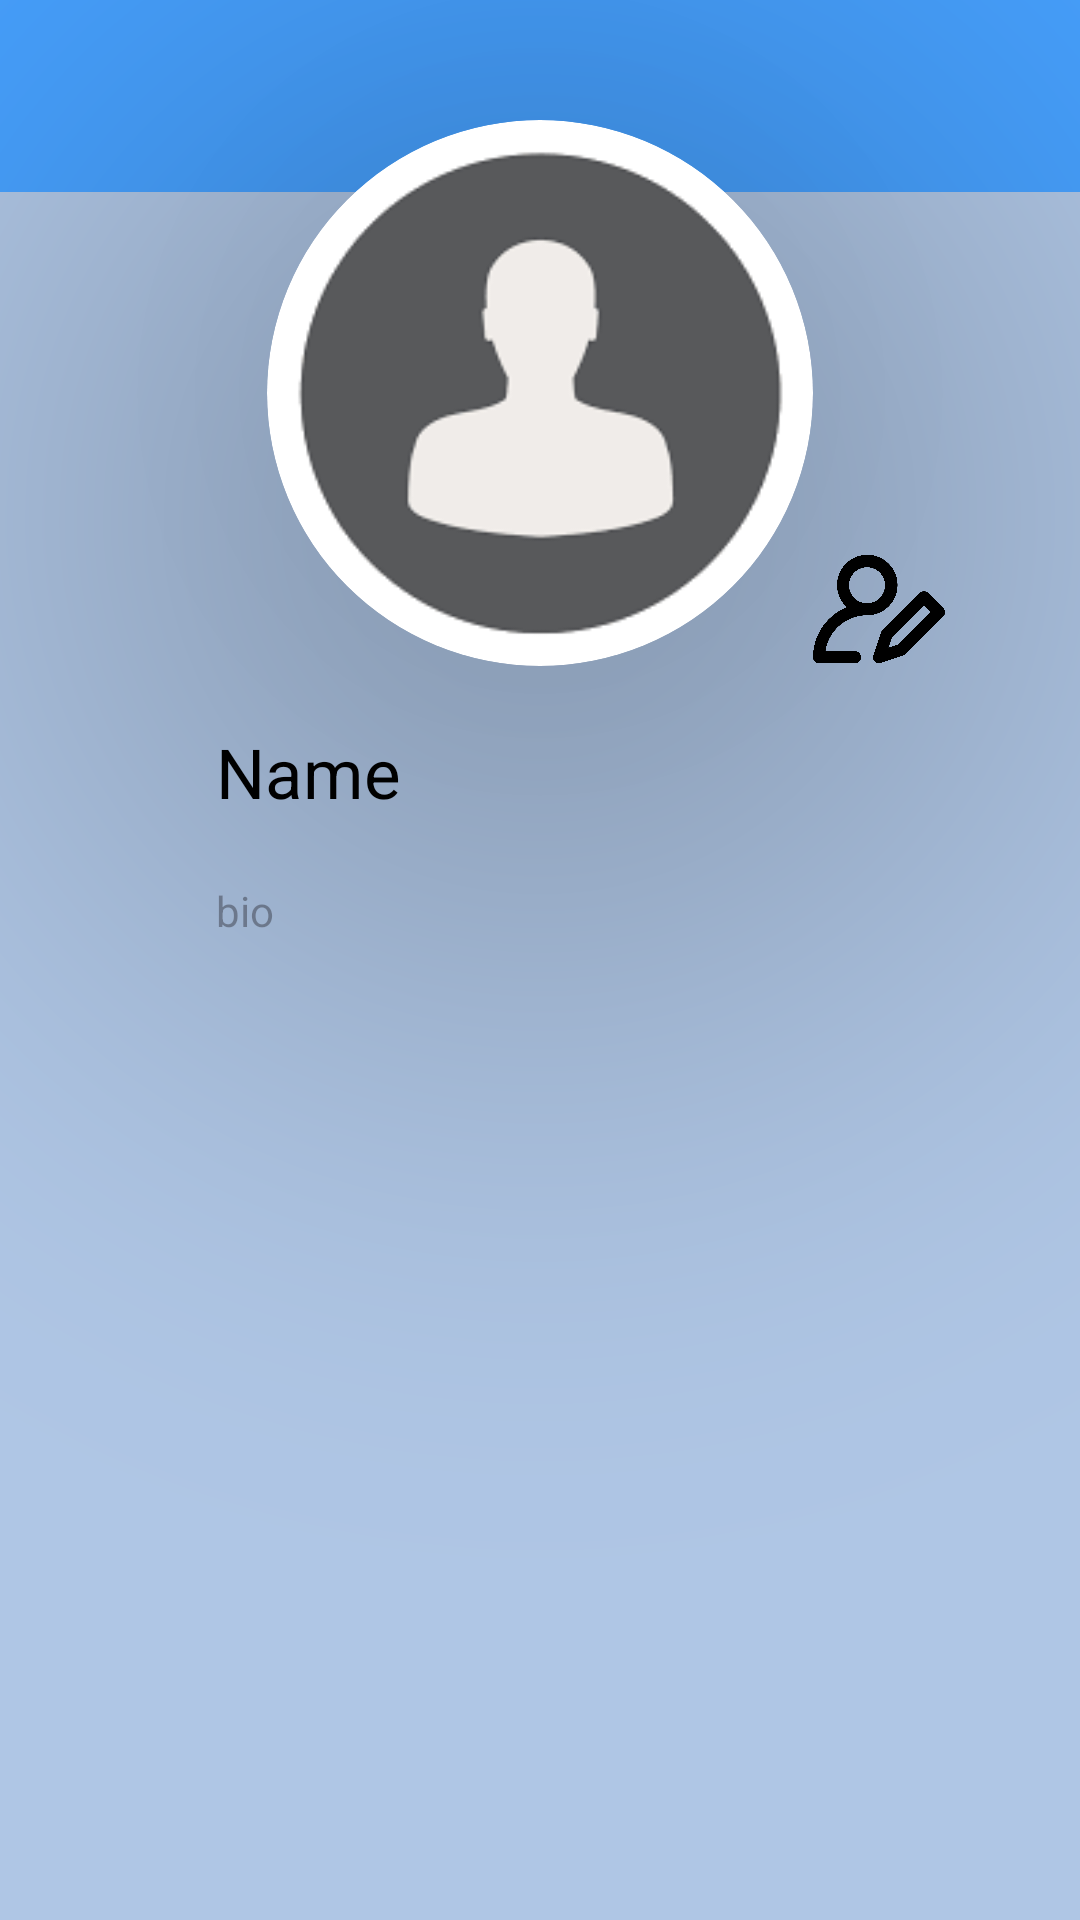

Screen size 1080 x 1920. Icon name, then its center in pixels as point (x, y):
edit: point (879, 609)
